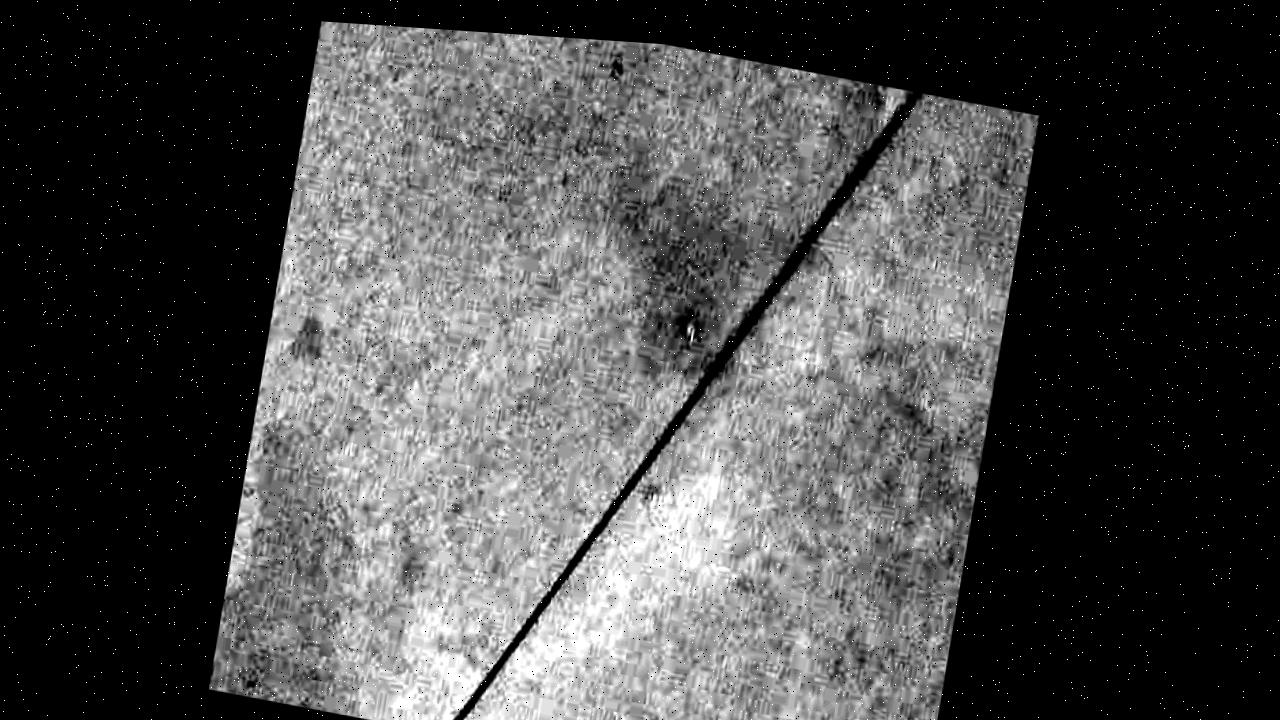drinks Stains: (214, 393, 433, 718), (571, 165, 831, 405)
